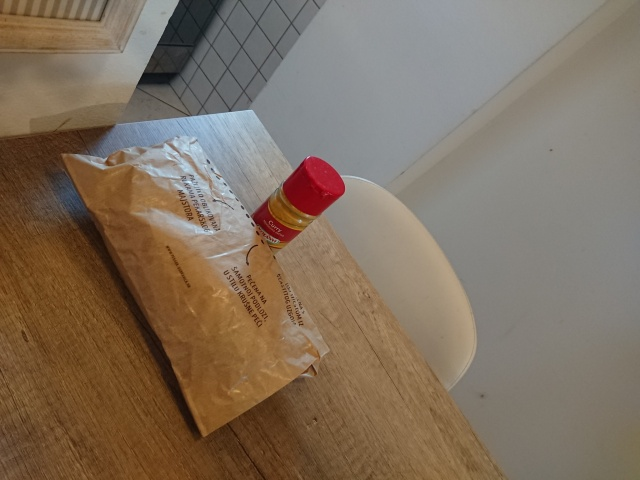Kotanyi Curry Spices Mix 70g: (233, 154, 348, 267)
